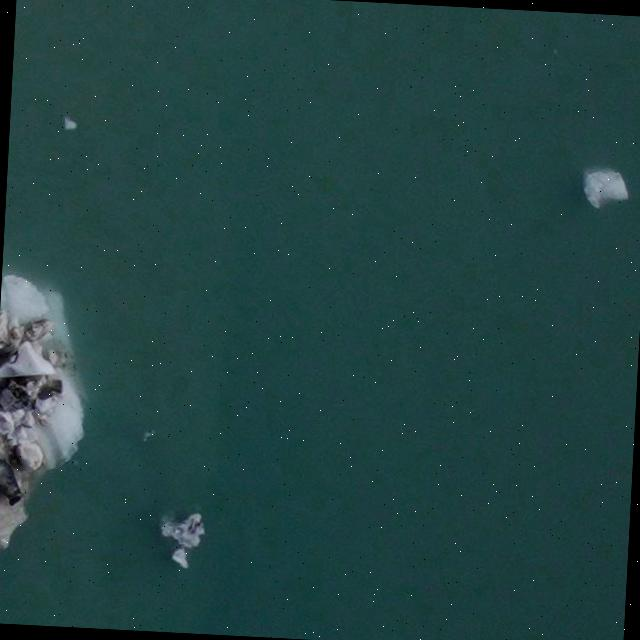seal: (0, 459, 27, 507)
